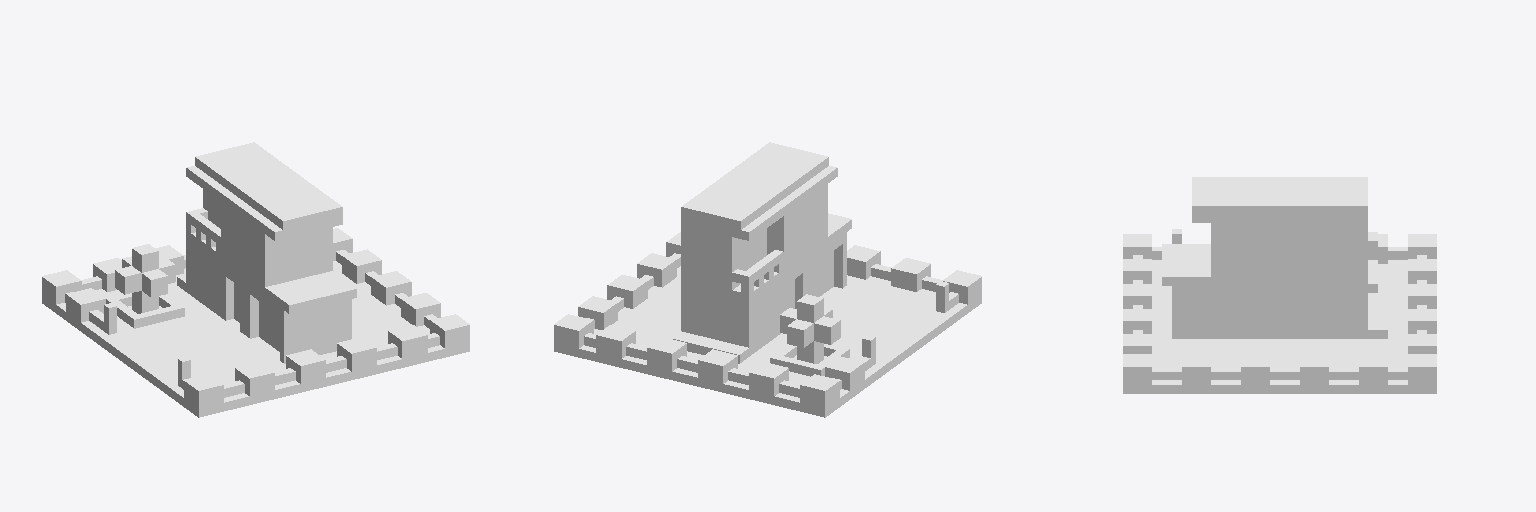
File: house2.obj
The picture shows the model from 3 angles: view 1: azimuth 30°, elevation 25°; view 2: azimuth 150°, elevation 25°; view 3: azimuth 270°, elevation 25°; orthographic projection.
Visible parts, largest first — view 1: object 1; view 2: object 1; view 3: object 1.
Part boxes in pixels (x1,y1,x2,y2): object 1: (42,142,469,417); object 1: (554,142,981,417); object 1: (1123,177,1436,393).
Size of the model in its own units: 3.2 by 1.6 by 3.2.